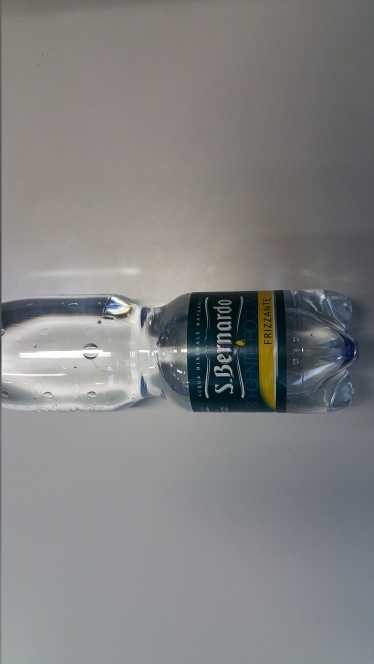bottle: (2, 293, 374, 414)
